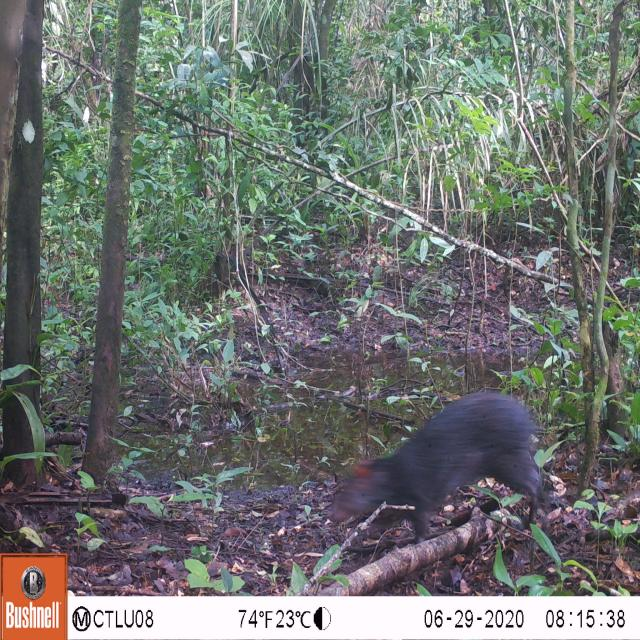Black Agouti: (322, 381, 558, 551)
